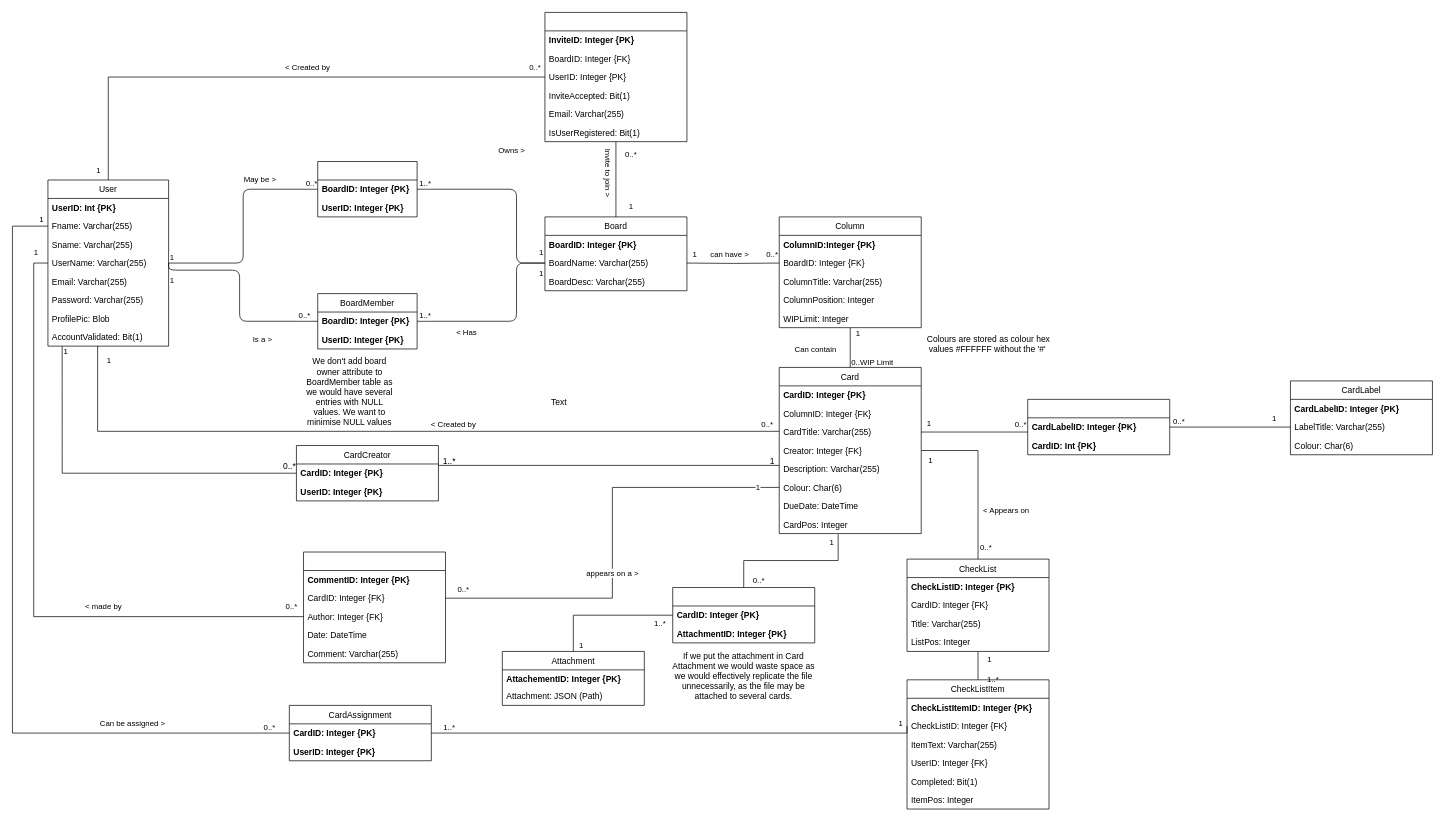
This 1445x824 diagram has some shape labels left out. The box of each missing label's shape, as (x1, y1, x2, y2) in pixels:
BoardInvite: (544, 12, 687, 142)
BoardOwner: (317, 161, 417, 217)
CardAttachments: (672, 587, 815, 643)
CardComment: (303, 551, 446, 663)
LabelledCards: (1027, 399, 1170, 455)
